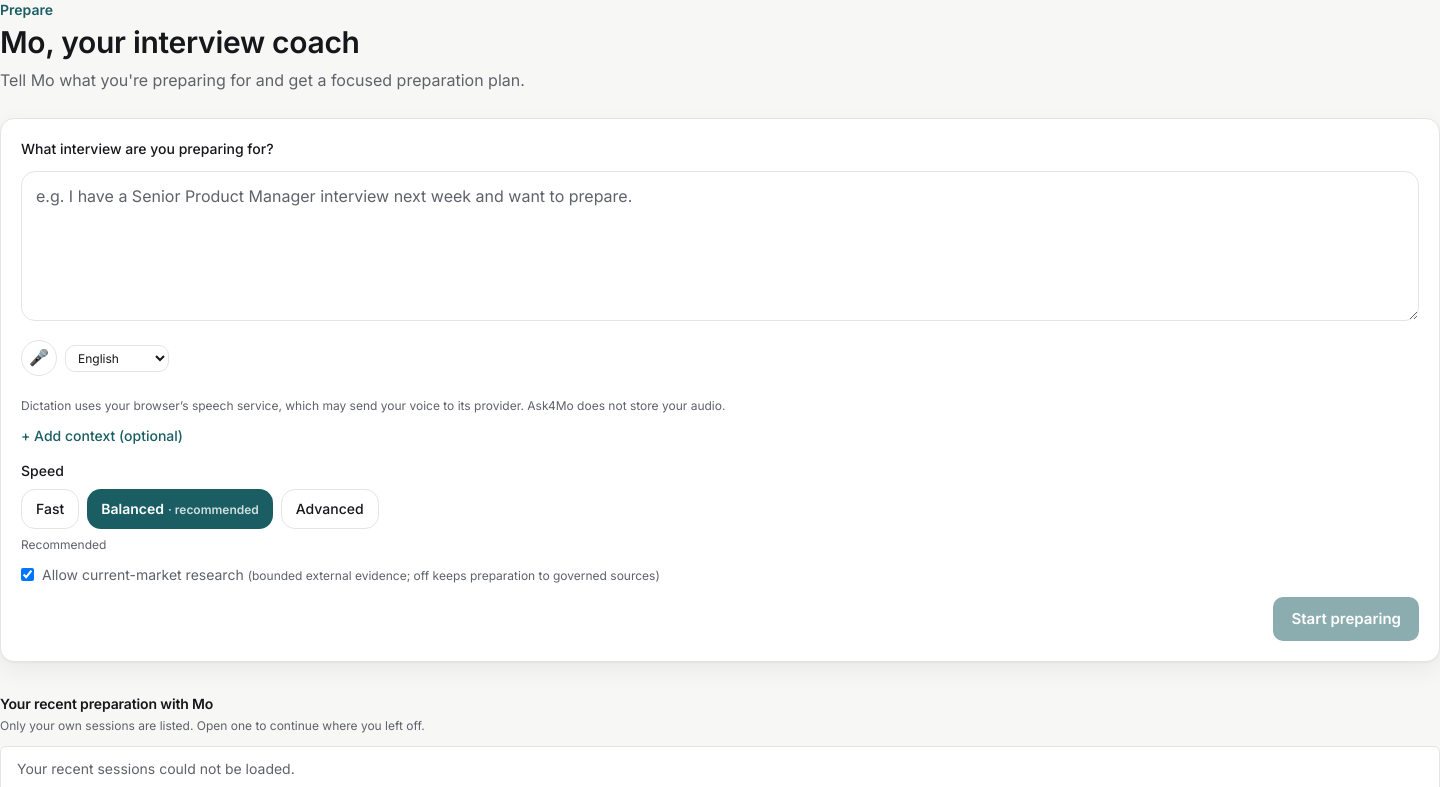
it: Practice handoff completion › shows the completion form ONLY for the missing-config error
This screenshot has width=1440, height=787.
In the text box labelled "What interview are you preparing for?": (720,246) top-left (21, 171), bottom-right (1419, 321), type "Prep"
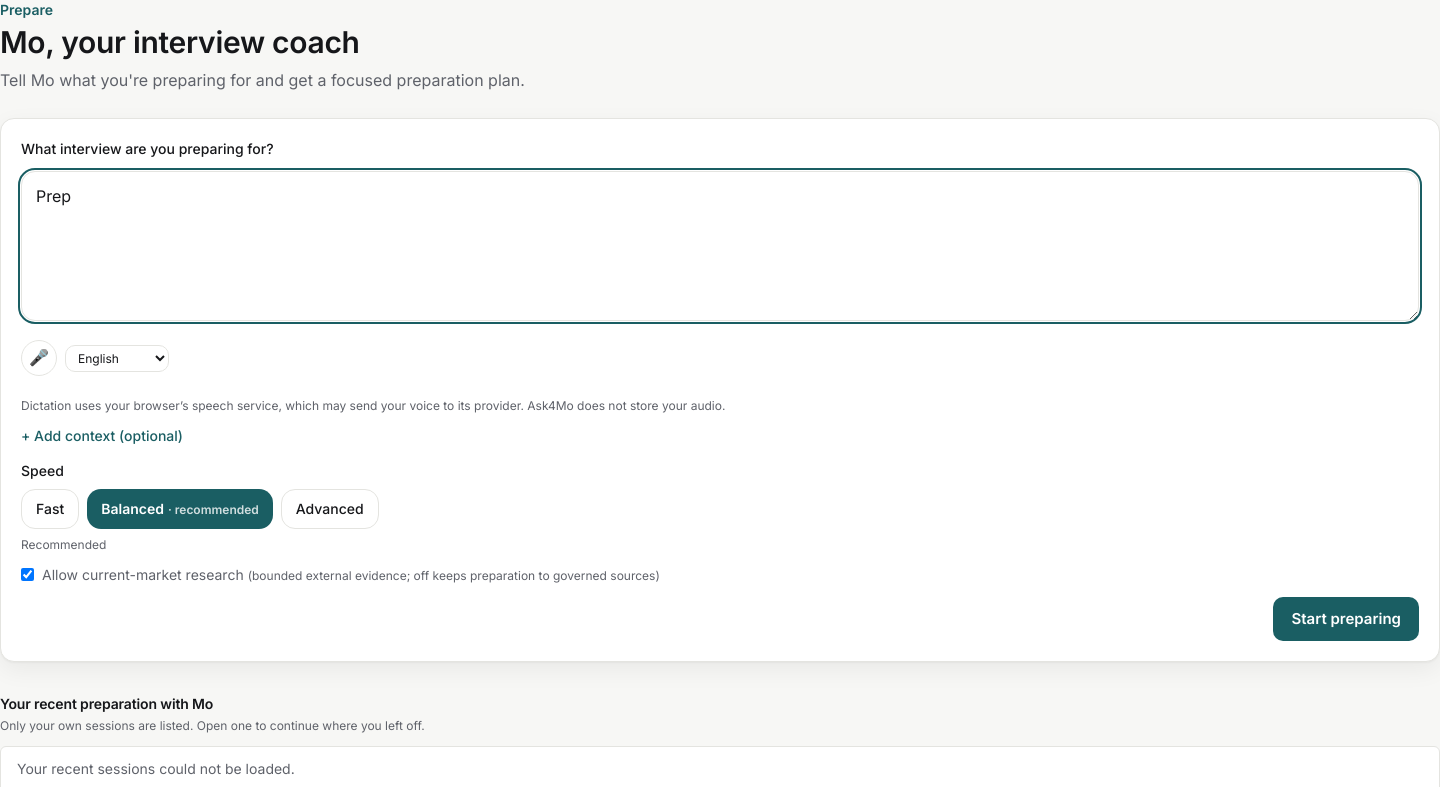
Click the button "Start preparing": (1346,619) top-left (1273, 597), bottom-right (1419, 641)
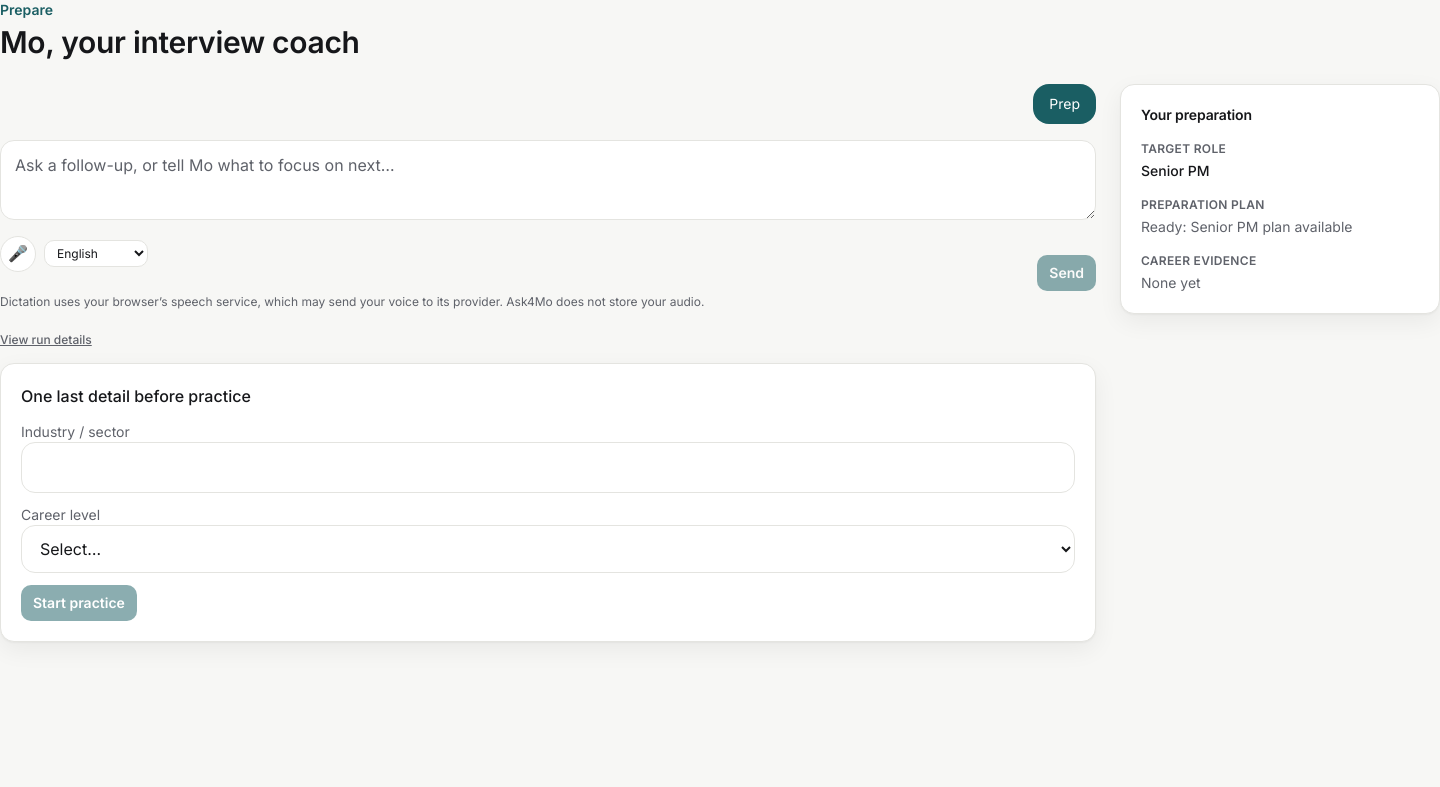
Now the text "One last detail before practice" is shown, box top-left (21, 386), bottom-right (251, 406)
